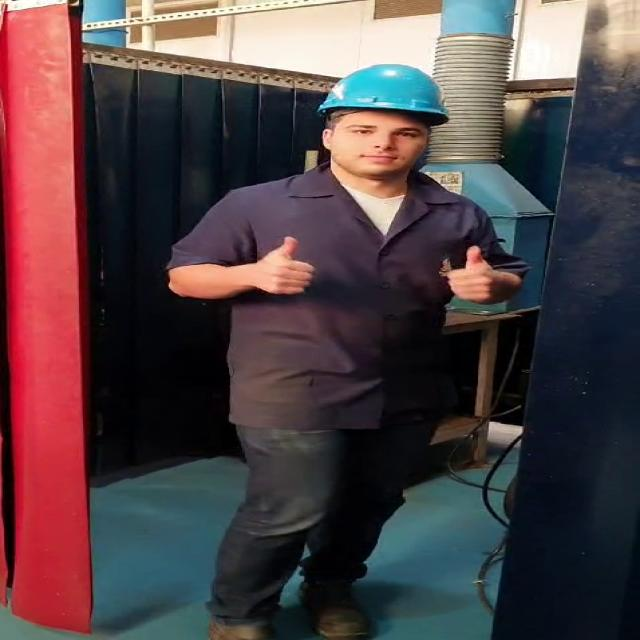sem_oculos: (324, 120, 446, 144)
